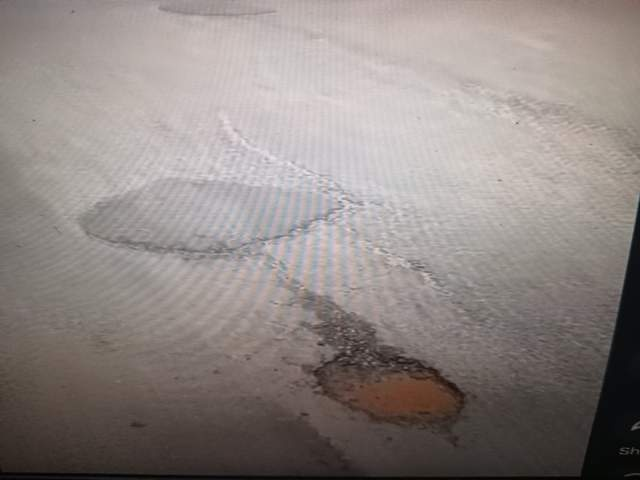pothole: (105, 403, 314, 480)
